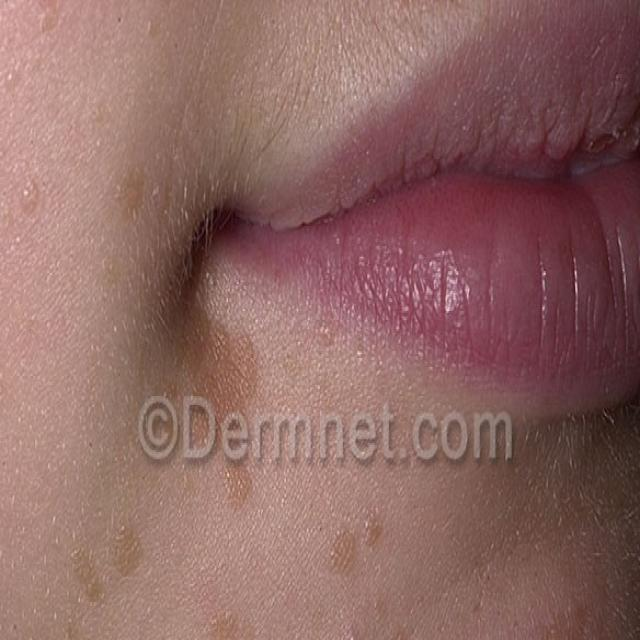Warts: (49, 123, 374, 640)
